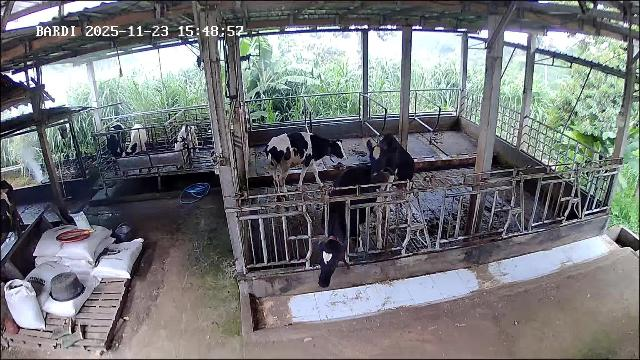mounting: (368, 130, 416, 222)
